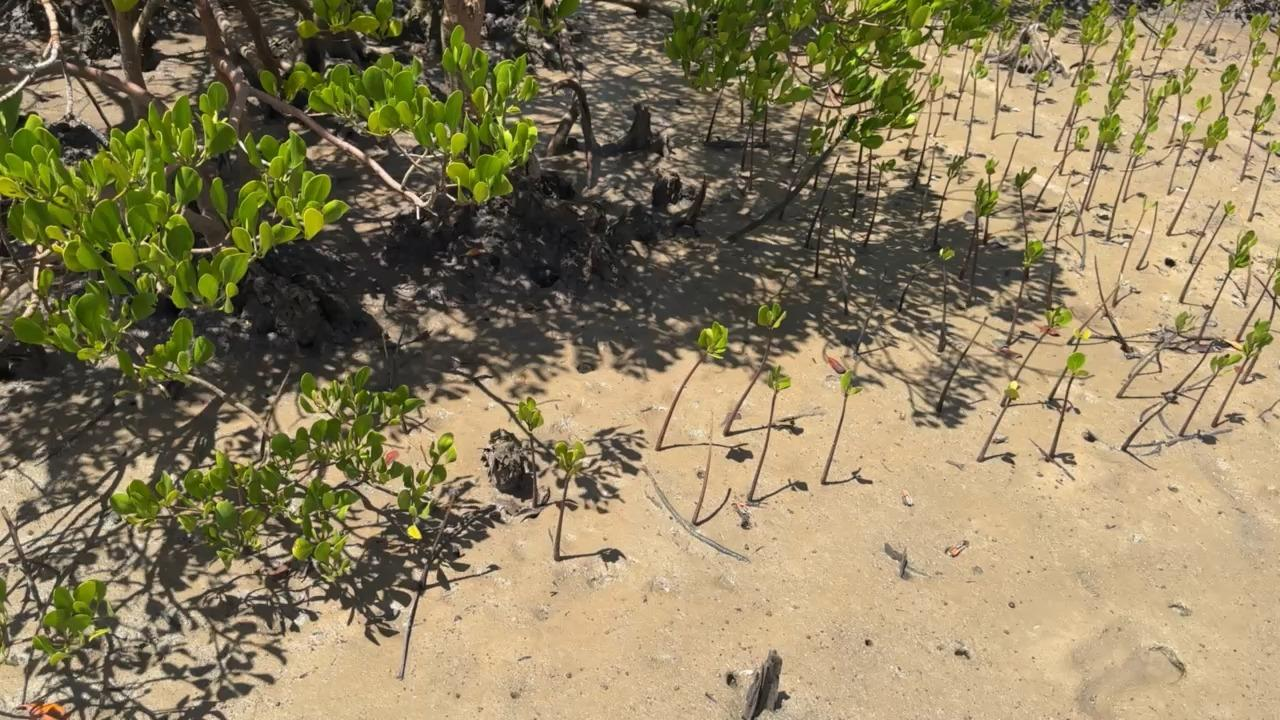Tree: (656, 322, 730, 451), (722, 303, 787, 437), (1196, 231, 1258, 344), (1166, 120, 1225, 238), (1211, 320, 1275, 426), (1117, 312, 1195, 397), (746, 366, 791, 501), (1180, 202, 1235, 304), (1180, 352, 1243, 437), (1112, 196, 1157, 306), (938, 317, 989, 411), (1049, 351, 1093, 458), (1072, 131, 1116, 238), (820, 371, 861, 483), (1034, 127, 1090, 209), (1014, 304, 1072, 380), (1240, 276, 1280, 385), (1108, 133, 1148, 240), (1005, 240, 1045, 344), (552, 439, 585, 561), (1007, 0, 1050, 89), (1230, 10, 1273, 98), (1236, 259, 1280, 342), (1054, 64, 1095, 152), (977, 382, 1021, 463), (898, 249, 957, 309), (806, 154, 843, 247), (1124, 115, 1162, 203), (959, 189, 999, 272), (1239, 93, 1277, 180), (1122, 393, 1178, 452), (913, 74, 943, 184), (1067, 285, 1121, 344), (1049, 327, 1092, 400), (518, 397, 546, 507), (862, 159, 896, 246), (933, 154, 966, 243), (1187, 0, 1229, 69), (1095, 256, 1126, 349), (1087, 123, 1121, 207), (1059, 90, 1092, 175), (951, 40, 985, 120), (692, 410, 715, 525), (1249, 138, 1280, 221), (1014, 167, 1037, 278), (1144, 26, 1178, 99), (1233, 42, 1267, 115), (1070, 20, 1107, 86), (964, 59, 988, 155), (966, 204, 988, 308), (1166, 120, 1195, 197), (1169, 68, 1198, 142), (999, 41, 1031, 106), (1131, 91, 1164, 150), (1107, 18, 1137, 82), (1189, 200, 1219, 263), (1091, 113, 1124, 168), (1040, 5, 1067, 72), (1045, 171, 1071, 240), (1174, 344, 1211, 392), (1143, 0, 1171, 60), (1067, 192, 1088, 270), (1032, 67, 1054, 137), (1111, 4, 1140, 57), (1137, 202, 1160, 267), (1184, 97, 1214, 145), (983, 155, 999, 241), (996, 138, 1020, 190), (991, 51, 1005, 137), (1183, 0, 1208, 47), (1048, 215, 1062, 298), (939, 262, 951, 354), (1220, 65, 1240, 119), (919, 156, 935, 222), (1154, 78, 1179, 120), (1112, 56, 1137, 90), (814, 207, 826, 277), (1105, 86, 1129, 117), (1090, 29, 1111, 62), (958, 42, 972, 91), (935, 88, 948, 136), (1268, 272, 1280, 322), (1213, 114, 1227, 156), (1265, 58, 1280, 95), (1083, 2, 1112, 21), (1212, 9, 1228, 41), (1153, 14, 1167, 49), (1171, 0, 1187, 25), (1245, 262, 1253, 303), (867, 147, 875, 187), (1142, 66, 1148, 117)
